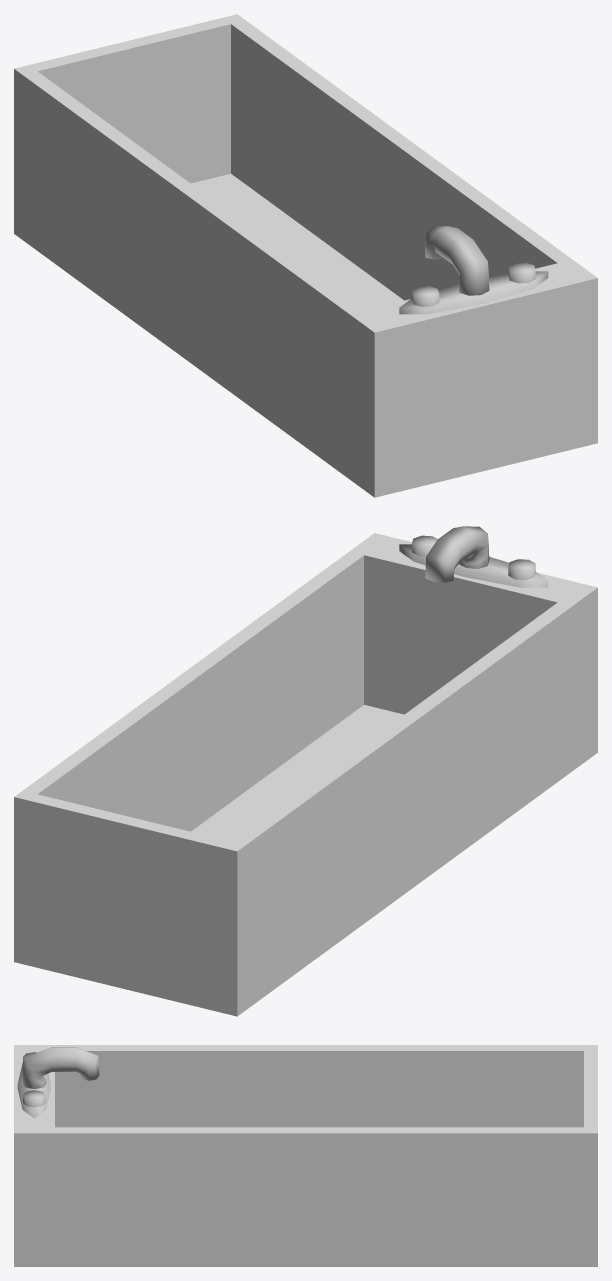
The model's file is bathtub.fbx.
3 renders of one model, top to bottom at view 1: azimuth 30°, elevation 25°; view 2: azimuth 150°, elevation 25°; view 3: azimuth 270°, elevation 25°, orthographic. The views are drawn at different scales.
Parts seen in each view (by area): view 1: bathtub, faucet; view 2: bathtub, faucet; view 3: bathtub, faucet.
Part boxes in pixels (box(x1,y1,x2,y2)): bathtub: box(14, 14, 597, 497); faucet: box(399, 226, 548, 314); bathtub: box(14, 533, 597, 1016); faucet: box(399, 526, 548, 587); bathtub: box(14, 1045, 597, 1266); faucet: box(17, 1047, 99, 1118).
Bounding box in the file's own units: 75.09 × 69.4 × 210.
